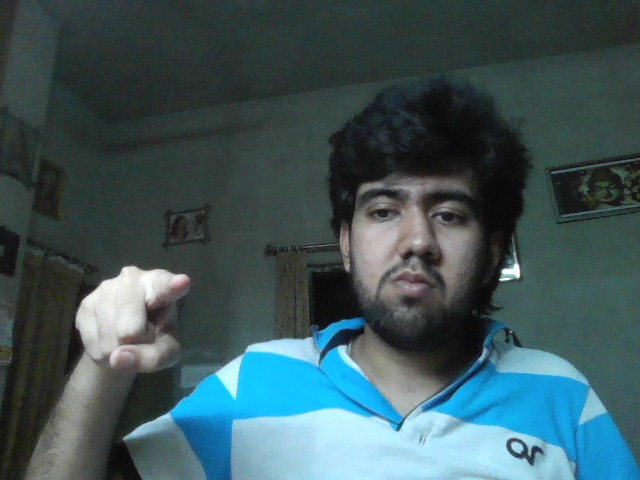You: (73, 265, 192, 374)
